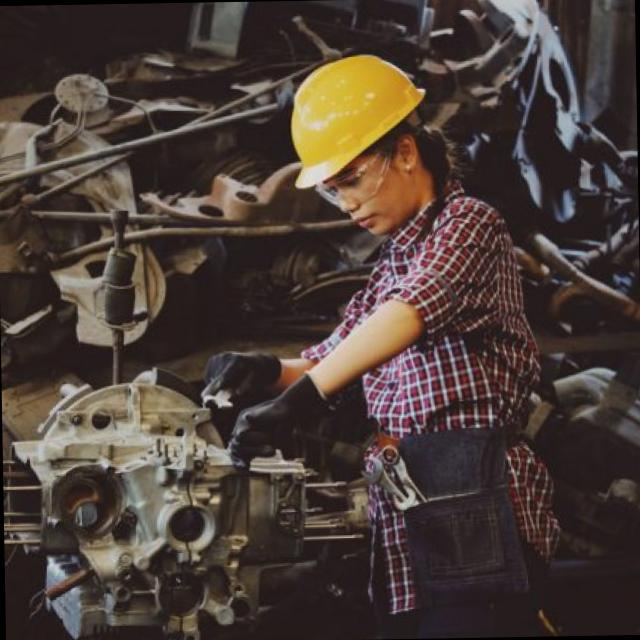goggles: (320, 173, 380, 202)
helmet: (277, 56, 427, 179)
no-vest: (361, 206, 524, 427)
